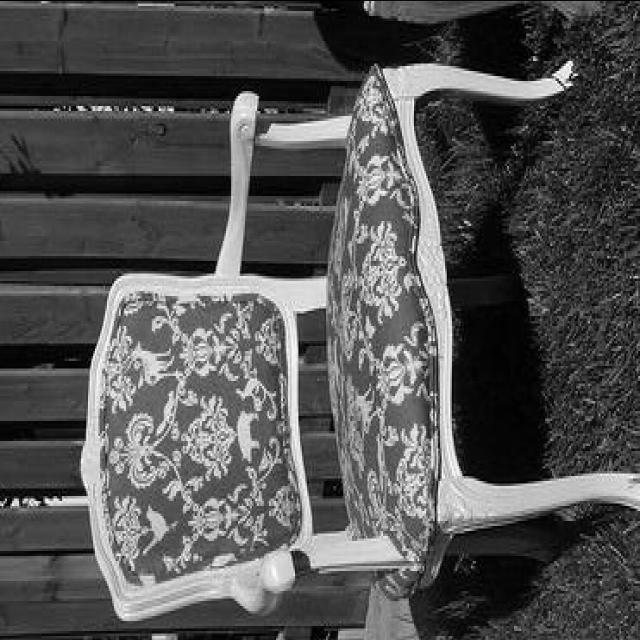chair: (77, 56, 639, 619)
